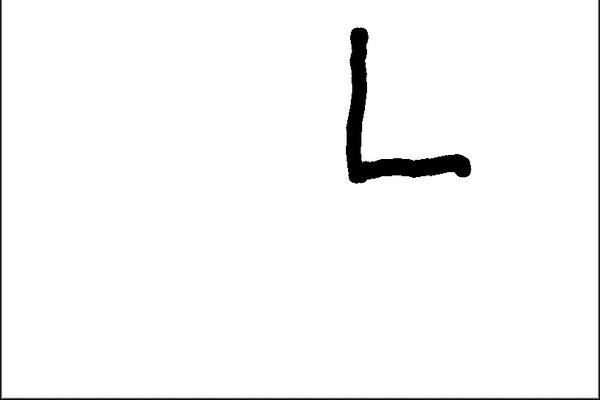L: (339, 16, 480, 191)
